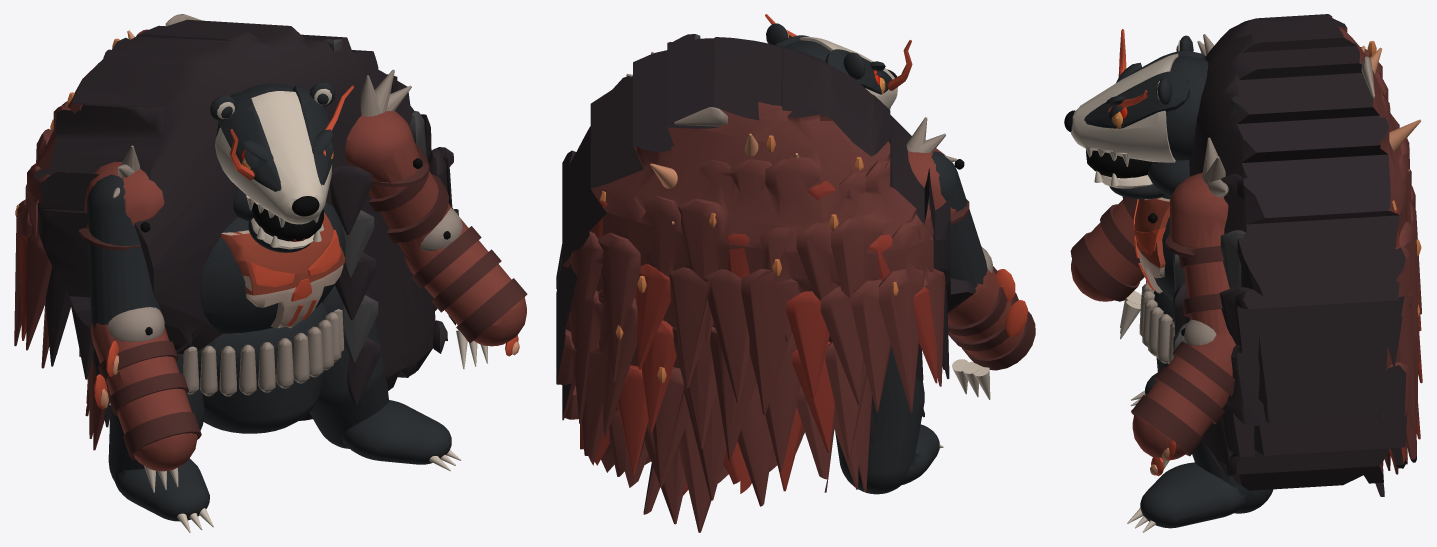
Rendered from castlemaw_rage.glb.
3 views of the same model, side by side, from view 1: azimuth 30°, elevation 25°; view 2: azimuth 150°, elevation 25°; view 3: azimuth 270°, elevation 25° (orthographic). The views are drawn at different scales.
Parts seen in each view (by area): view 1: creature; view 2: creature; view 3: creature.
Part boxes in pixels (<box>): creature: <box>14,14,527,532</box>; creature: <box>556,14,1035,532</box>; creature: <box>1064,14,1422,532</box>.
Size of the model in its own units: 1.05 by 1 by 0.7523.
